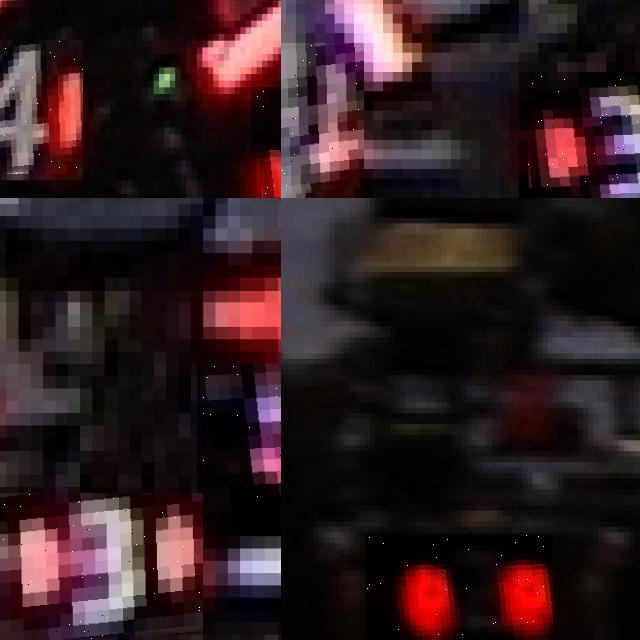R2: (365, 535, 553, 640)
R3: (0, 493, 203, 640), (518, 72, 640, 198), (196, 364, 281, 524), (281, 43, 363, 198)
R4: (0, 40, 83, 180), (251, 87, 281, 198)
